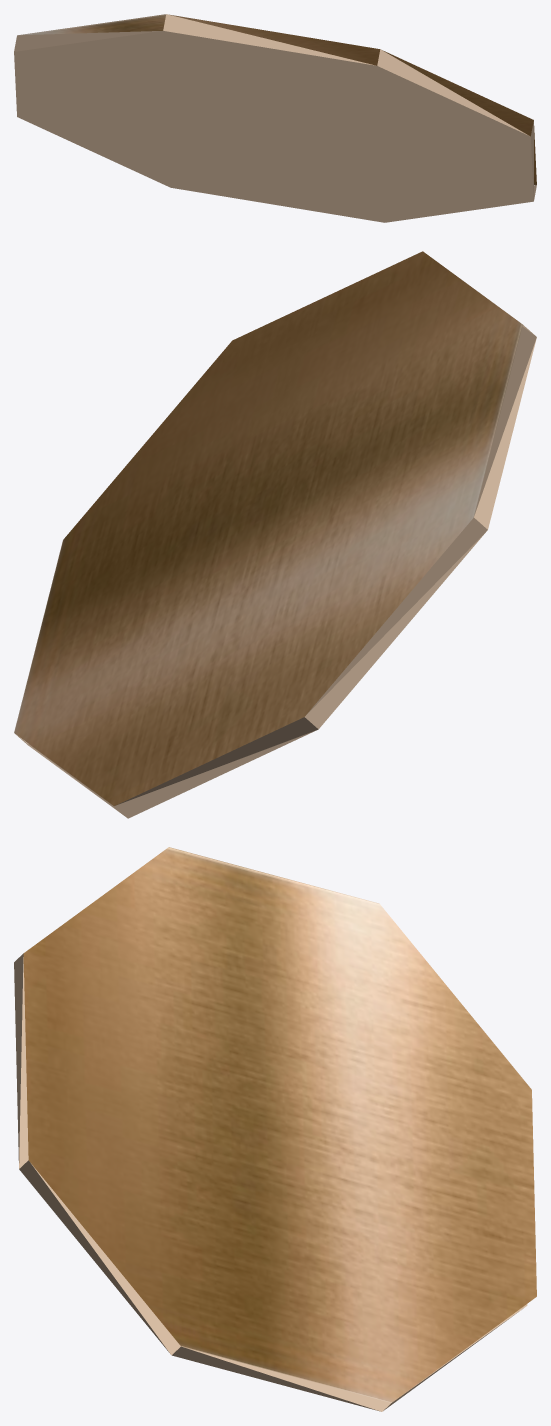
Rendered from cymbal3.gltf.
The picture shows the model from 3 angles, top to bottom: view 1: azimuth 30°, elevation 25°; view 2: azimuth 150°, elevation 25°; view 3: azimuth 270°, elevation 25°; orthographic projection. The views are drawn at different scales.
Visible parts, largest first — view 1: Cymbal3; view 2: Cymbal3; view 3: Cymbal3.
Part boxes in pixels (box(x1,y1,x2,y2)): Cymbal3: box(14, 14, 536, 222); Cymbal3: box(14, 251, 536, 818); Cymbal3: box(14, 847, 536, 1411).
Size of the model in its own units: 3.15 by 2.45 by 2.94.
1 material, 1 textured.
